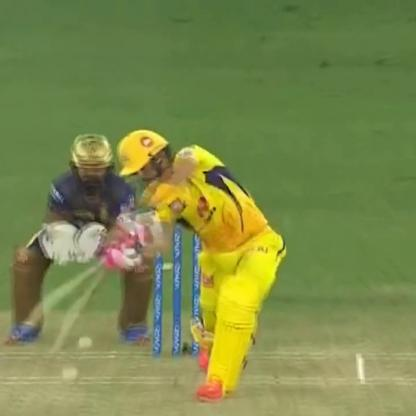ball: (57, 362, 84, 382), (75, 332, 98, 352)
bat: (19, 242, 118, 362)
pitch: (1, 336, 412, 415)
